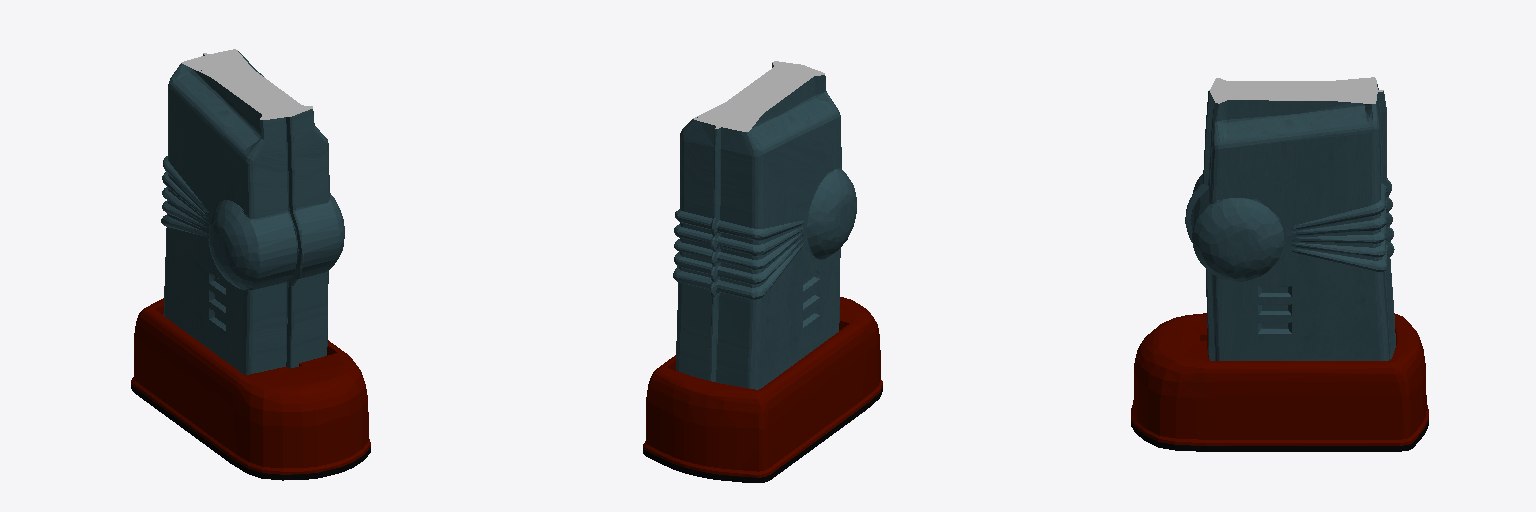
The picture shows the model from 3 angles: view 1: azimuth 30°, elevation 25°; view 2: azimuth 150°, elevation 25°; view 3: azimuth 270°, elevation 25°; orthographic projection.
Visible parts, largest first — view 1: pierna_der_11696_robot_v1_L3.004; view 2: pierna_der_11696_robot_v1_L3.004; view 3: pierna_der_11696_robot_v1_L3.004.
Boxes of the visible parts, <box> form: pierna_der_11696_robot_v1_L3.004: <box>131,49,370,480</box>; pierna_der_11696_robot_v1_L3.004: <box>643,61,882,482</box>; pierna_der_11696_robot_v1_L3.004: <box>1131,77,1428,451</box>.
Size of the model in its own units: 0.045 by 0.1135 by 0.0928.
4 materials, 1 textured.